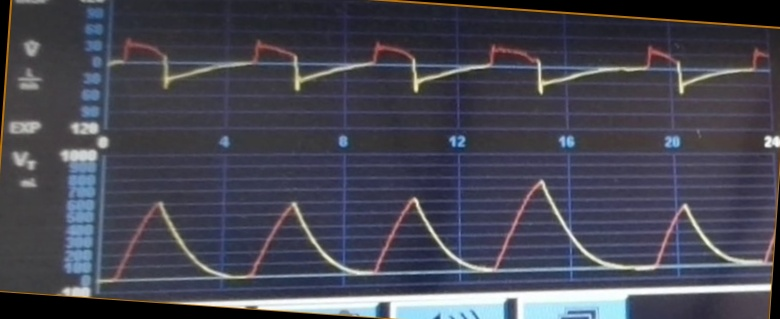Normal Flow: (112, 31, 767, 125)
Normal Volume: (102, 179, 772, 282)
